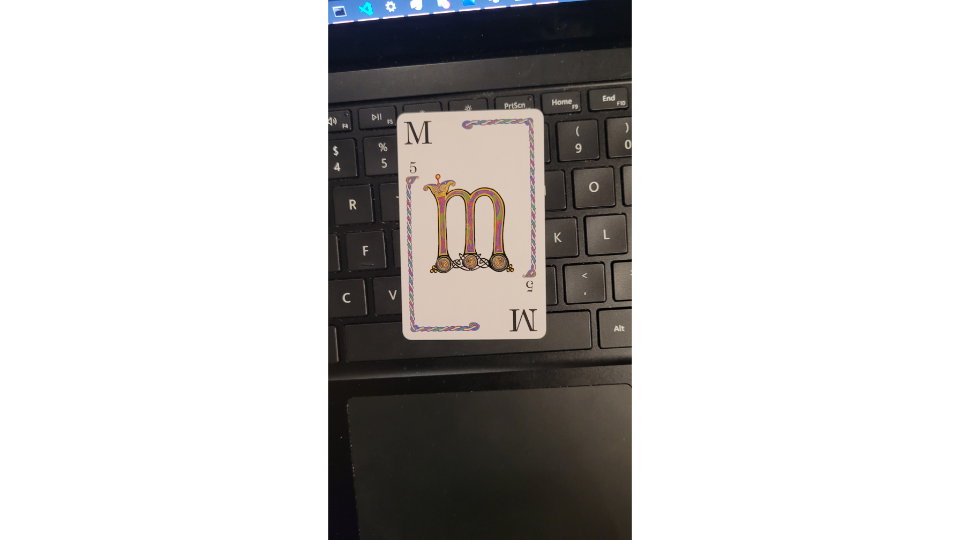M: (394, 106, 550, 342)
